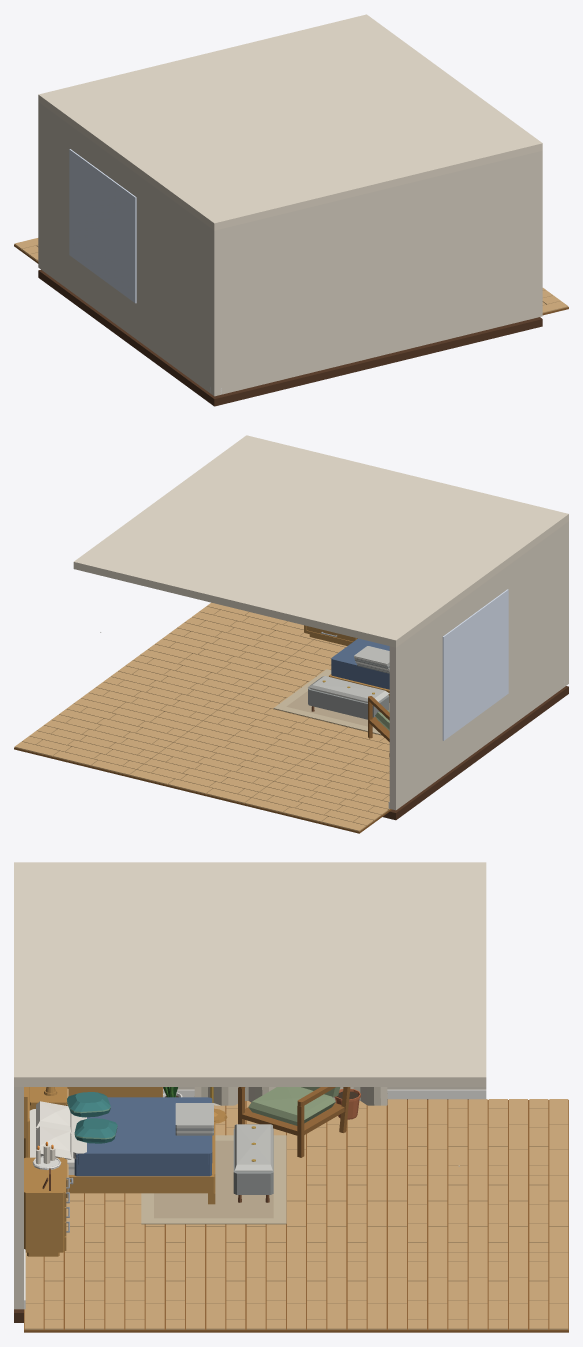
File: SM_LPI_Room_Bedroom.fbx
3 views of the same model, one above another, from view 1: azimuth 30°, elevation 25°; view 2: azimuth 150°, elevation 25°; view 3: azimuth 270°, elevation 25° (orthographic). The views are drawn at different scales.
Parts seen in each view (by area): view 1: SM_LPI_Room_Bedroom, SM_LPI_Room_BedroomGlass; view 2: SM_LPI_Room_Bedroom, SM_LPI_Floor_PlankLight_03.006, SM_LPI_Floor_PlankLight_03.009, SM_LPI_Floor_PlankLight_03.008, SM_LPI_Floor_PlankLight_03.003, SM_LPI_Floor_PlankLight_03.007, SM_LPI_Room_BedroomGlass, SM_LPI_Floor_PlankLight_03.005, SM_LPI_Bed_Ottoman_01.001, SM_LPI_Floor_PlankLight_03.002, SM_LPI_Floor_PlankLight_03.004, SM_LPI_Bed_Double_01.001 (+4 smaller); view 3: SM_LPI_Room_Bedroom, SM_LPI_Floor_PlankLight_03.008, SM_LPI_Floor_PlankLight_03.009, SM_LPI_Floor_PlankLight_03.007, SM_LPI_Floor_PlankLight_03.006, SM_LPI_Floor_PlankLight_03.003, SM_LPI_Bed_Double_01.001, SM_LPI_Floor_PlankLight_03.005, SM_LPI_Text_RugRect_01.001, SM_LPI_Floor_PlankLight_03.004, SM_LPI_Floor_PlankLight_03.002, SM_LPI_Seat_Armchair_06.001 (+8 smaller).
Part boxes in pixels (left/top/right/bottom): SM_LPI_Room_Bedroom: left=38, top=14, right=542, bottom=406; SM_LPI_Room_BedroomGlass: left=69, top=149, right=136, bottom=303; SM_LPI_Room_Bedroom: left=73, top=435, right=568, bottom=820; SM_LPI_Floor_PlankLight_03.006: left=129, top=726, right=310, bottom=805; SM_LPI_Floor_PlankLight_03.009: left=14, top=698, right=194, bottom=777; SM_LPI_Floor_PlankLight_03.008: left=81, top=649, right=261, bottom=726; SM_LPI_Floor_PlankLight_03.003: left=244, top=754, right=392, bottom=833; SM_LPI_Floor_PlankLight_03.007: left=147, top=602, right=315, bottom=677; SM_LPI_Room_BedroomGlass: left=442, top=589, right=508, bottom=740; SM_LPI_Floor_PlankLight_03.005: left=196, top=677, right=348, bottom=754; SM_LPI_Bed_Ottoman_01.001: left=308, top=676, right=389, bottom=719; SM_LPI_Floor_PlankLight_03.002: left=311, top=727, right=389, bottom=773; SM_LPI_Floor_PlankLight_03.004: left=262, top=638, right=347, bottom=687; SM_LPI_Bed_Double_01.001: left=329, top=638, right=389, bottom=702; SM_LPI_Room_Bedroom: left=14, top=862, right=486, bottom=1322; SM_LPI_Floor_PlankLight_03.008: left=205, top=1252, right=387, bottom=1332; SM_LPI_Floor_PlankLight_03.009: left=387, top=1252, right=568, bottom=1332; SM_LPI_Floor_PlankLight_03.007: left=24, top=1252, right=205, bottom=1332; SM_LPI_Floor_PlankLight_03.006: left=387, top=1175, right=568, bottom=1253; SM_LPI_Floor_PlankLight_03.003: left=387, top=1099, right=568, bottom=1176; SM_LPI_Bed_Double_01.001: left=24, top=1087, right=215, bottom=1204; SM_LPI_Floor_PlankLight_03.005: left=205, top=1175, right=387, bottom=1253; SM_LPI_Text_RugRect_01.001: left=141, top=1135, right=286, bottom=1224; SM_LPI_Floor_PlankLight_03.004: left=63, top=1193, right=205, bottom=1253; SM_LPI_Floor_PlankLight_03.002: left=214, top=1101, right=387, bottom=1176; SM_LPI_Seat_Armchair_06.001: left=238, top=1087, right=350, bottom=1157.
Bounding box in the file's own units: 6.26 × 2.98 × 6.11.
